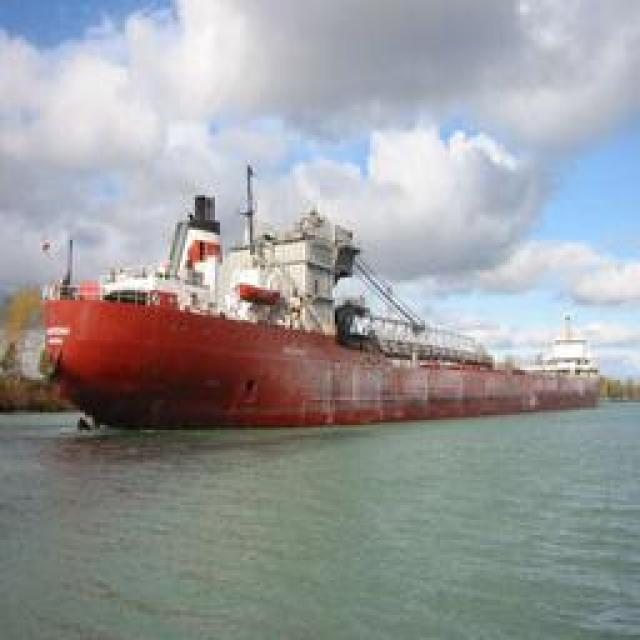CIV_Ship: (41, 178, 599, 422)
